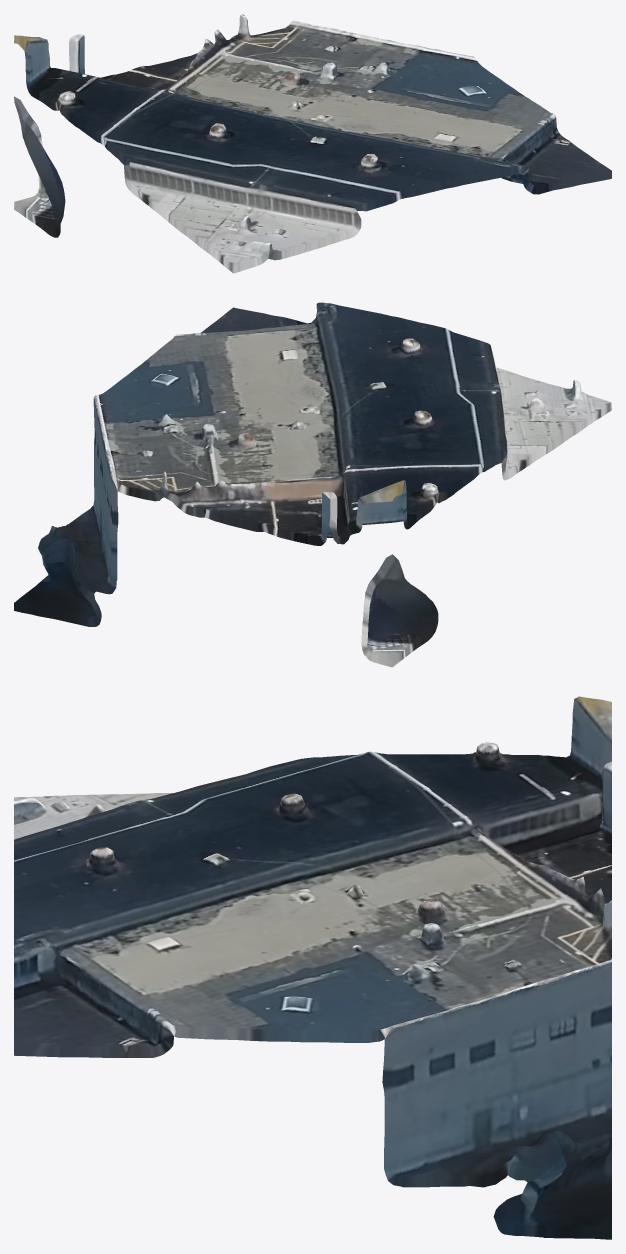
File: z20-167778-405203-h0-yup-uvflip-v3-world.glb
3 views of the same model, one above another, from view 1: azimuth 30°, elevation 25°; view 2: azimuth 150°, elevation 25°; view 3: azimuth 270°, elevation 25° (orthographic). The views are drawn at different scales.
Size of the model in its own units: 30.2 by 16.32 by 30.32.
1 material, 1 textured.
